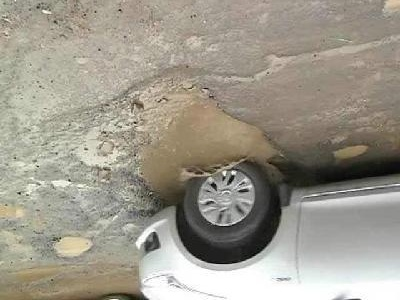pothole: (92, 67, 290, 222), (49, 235, 95, 260), (330, 141, 372, 162), (0, 199, 28, 227)
